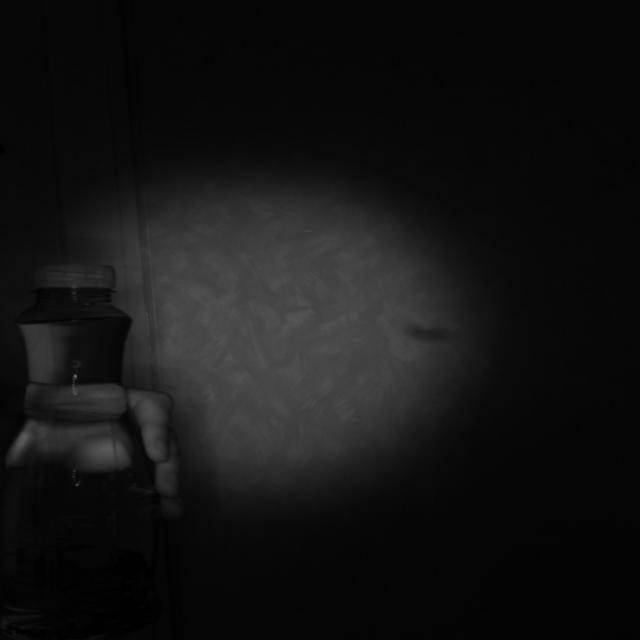Good: (34, 264, 116, 290)
